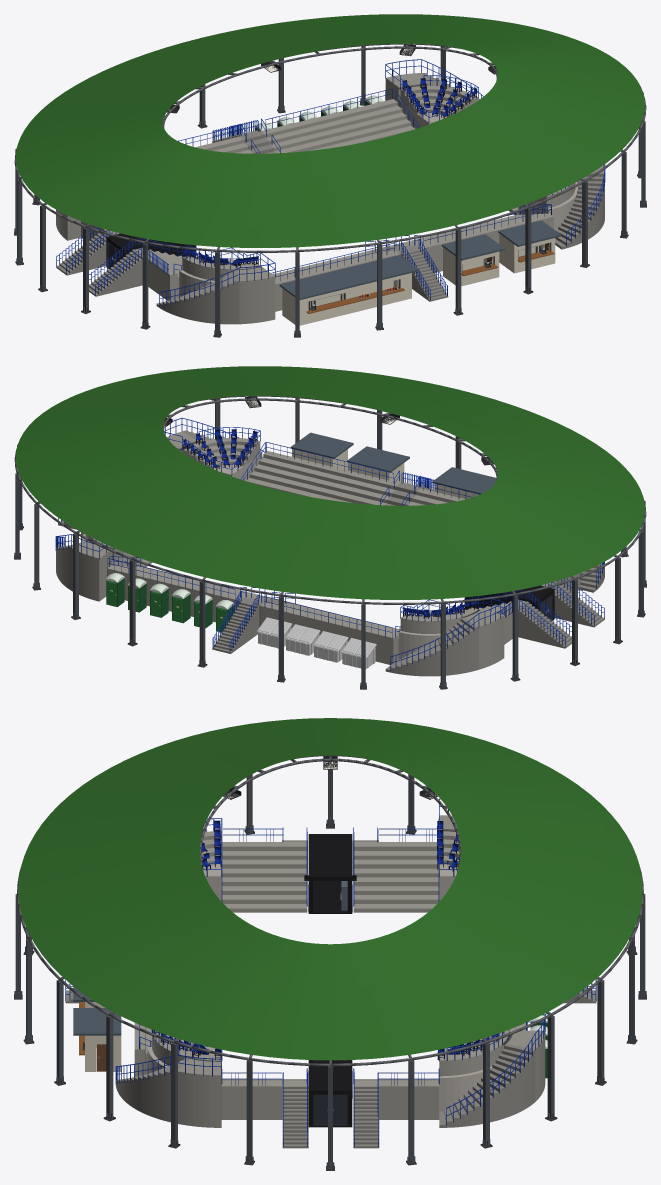
Rendered from estadio.obj.
3 views of the same model, one above another, from view 1: azimuth 30°, elevation 25°; view 2: azimuth 150°, elevation 25°; view 3: azimuth 270°, elevation 25° (orthographic). The views are drawn at different scales.
Visible parts, largest first — view 1: Techo_Cesped, Soportes_Columnas, Grada_Norte_Grada_Der, Techo_Estructura, Puesto_Comida_Sur_Pared.002, Puesto_Comida_Sur_Techo.002, Palco_SO_Escalera, Grada_Sur_Grada_Izq, Palco_SE_Escalera, Palco_SO_Landing, Grada_Sur_Grada_Der, Escalera_Peatonal_Este.002 (+23 smaller); view 2: Techo_Cesped, Soportes_Columnas, Grada_Sur_Grada_Izq, Techo_Estructura, Bano_1_Caseta, Grada_Norte_Grada_Izq, basurero, Palco_NO_Escalera, Grada_Norte_Grada_Der, Palco_NE_Landing, Palco_NO_Landing, Escalera_Peatonal_Este.003 (+21 smaller); view 3: Techo_Cesped, Soportes_Columnas, Grada_Oeste_Grada_Izq, Grada_Oeste_Grada_Der, Techo_Estructura, Palco_NE_Escalera, Grada_Oeste_Tunel, Palco_SE_Landing, Grada_Este_Grada_Der, Grada_Este_Grada_Izq, Palco_SE_Escalera, Grada_Este_Tunel (+12 smaller).
Part boxes in pixels (<box>): Techo_Cesped: <box>16,14,644,247</box>; Soportes_Columnas: <box>14,46,646,336</box>; Grada_Norte_Grada_Der: <box>261,99,414,153</box>; Techo_Estructura: <box>14,43,646,252</box>; Puesto_Comida_Sur_Pared.002: <box>282,273,411,325</box>; Puesto_Comida_Sur_Techo.002: <box>279,255,419,299</box>; Palco_SO_Escalera: <box>156,270,239,324</box>; Grada_Sur_Grada_Izq: <box>385,213,553,272</box>; Palco_SE_Escalera: <box>555,171,604,249</box>; Palco_SO_Landing: <box>237,267,275,324</box>; Grada_Sur_Grada_Der: <box>273,250,400,311</box>; Escalera_Peatonal_Este.002: <box>89,249,142,296</box>; Techo_Cesped: <box>16,366,644,599</box>; Soportes_Columnas: <box>14,398,646,688</box>; Grada_Sur_Grada_Izq: <box>246,451,399,505</box>; Techo_Estructura: <box>14,395,646,604</box>; Bano_1_Caseta: <box>106,573,234,632</box>; Grada_Norte_Grada_Izq: <box>260,602,400,664</box>; basurero: <box>257,617,376,668</box>; Palco_NO_Escalera: <box>385,617,478,676</box>; Grada_Norte_Grada_Der: <box>107,565,275,622</box>; Palco_NE_Landing: <box>71,542,112,601</box>; Palco_NO_Landing: <box>464,609,504,669</box>; Escalera_Peatonal_Este.003: <box>518,601,571,648</box>; Techo_Cesped: <box>18,718,642,1060</box>; Soportes_Columnas: <box>14,769,646,1169</box>; Grada_Oeste_Grada_Izq: <box>222,842,307,912</box>; Grada_Oeste_Grada_Der: <box>353,842,438,912</box>; Techo_Estructura: <box>17,755,643,1066</box>; Palco_NE_Escalera: <box>439,1044,535,1127</box>; Grada_Oeste_Tunel: <box>304,834,356,913</box>; Palco_SE_Landing: <box>178,1059,221,1127</box>; Grada_Este_Grada_Der: <box>221,1079,306,1119</box>; Grada_Este_Grada_Izq: <box>353,1079,439,1119</box>; Palco_SE_Escalera: <box>115,1058,189,1122</box>; Grada_Este_Tunel: <box>308,1060,352,1127</box>.
Bounding box in the file's own units: 56.37 × 11.35 × 43.57.
